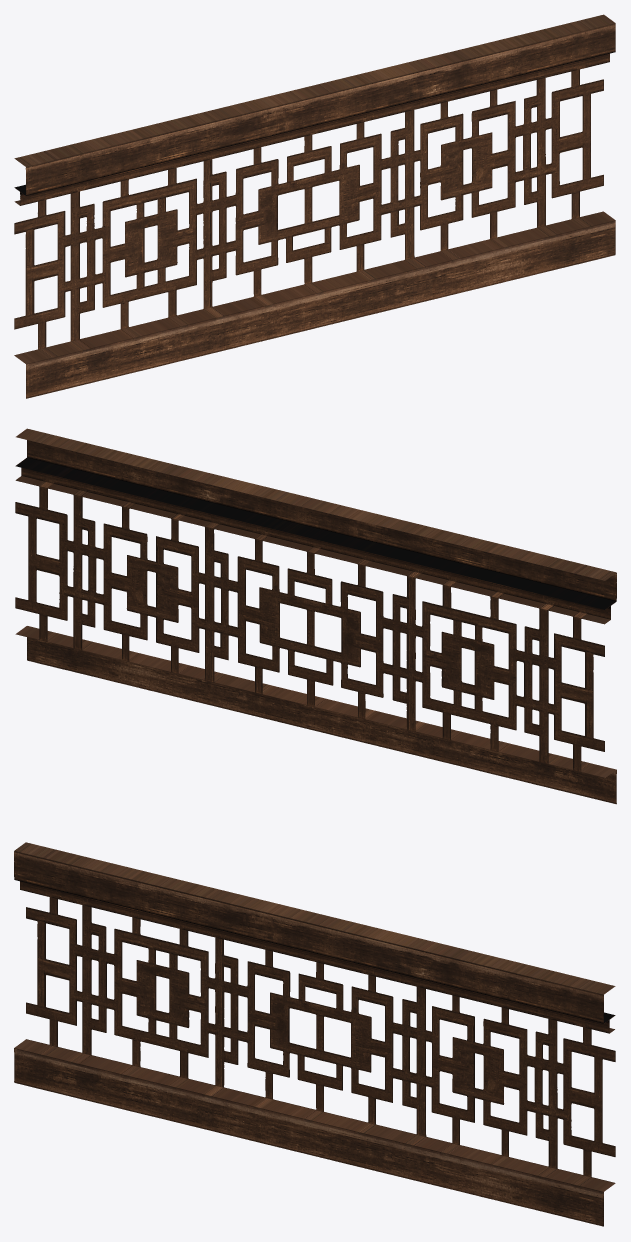
Rendered from Textura Pared (DISEÑO UP).fbx.
3 renders of one model, top to bottom at view 1: azimuth 30°, elevation 25°; view 2: azimuth 150°, elevation 25°; view 3: azimuth 330°, elevation 25°, orthographic.
Visible parts, largest first — view 1: Plane.049; view 2: Plane.049; view 3: Plane.049.
Part boxes in pixels (box(x1,y1,x2,y2)): Plane.049: box(14, 14, 615, 398); Plane.049: box(15, 428, 616, 804); Plane.049: box(14, 842, 615, 1226).
Bounding box in the file's own units: 146 × 55.05 × 5.01.
1 material, 1 textured.
